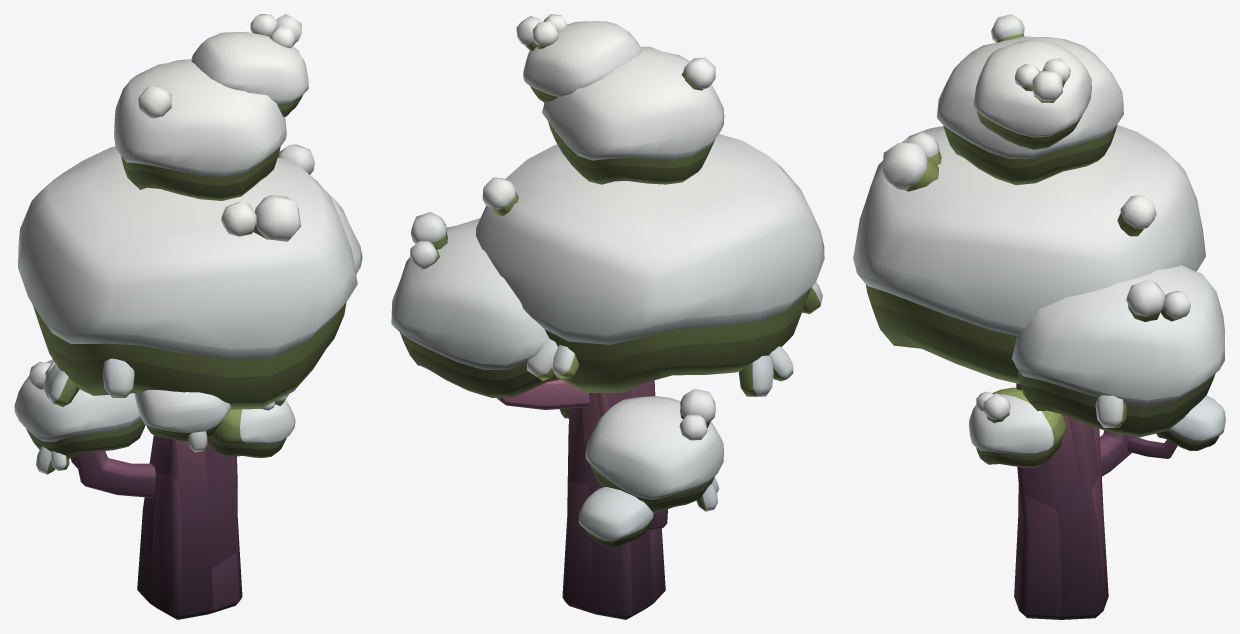
The model's file is grassland_tree_col1_1_snow.fbx.
3 renders of one model, left to right at view 1: azimuth 30°, elevation 25°; view 2: azimuth 150°, elevation 25°; view 3: azimuth 270°, elevation 25°, orthographic. The views are drawn at different scales.
Parts seen in each view (by area): view 1: grassland_tree_col1_1_snow; view 2: grassland_tree_col1_1_snow; view 3: grassland_tree_col1_1_snow.
Boxes of the visible parts, box(x1,y1,x2,y2) form: grassland_tree_col1_1_snow: box(14, 14, 362, 619); grassland_tree_col1_1_snow: box(391, 14, 824, 619); grassland_tree_col1_1_snow: box(853, 14, 1225, 619).
Size of the model in its own units: 961 by 1490 by 868.
